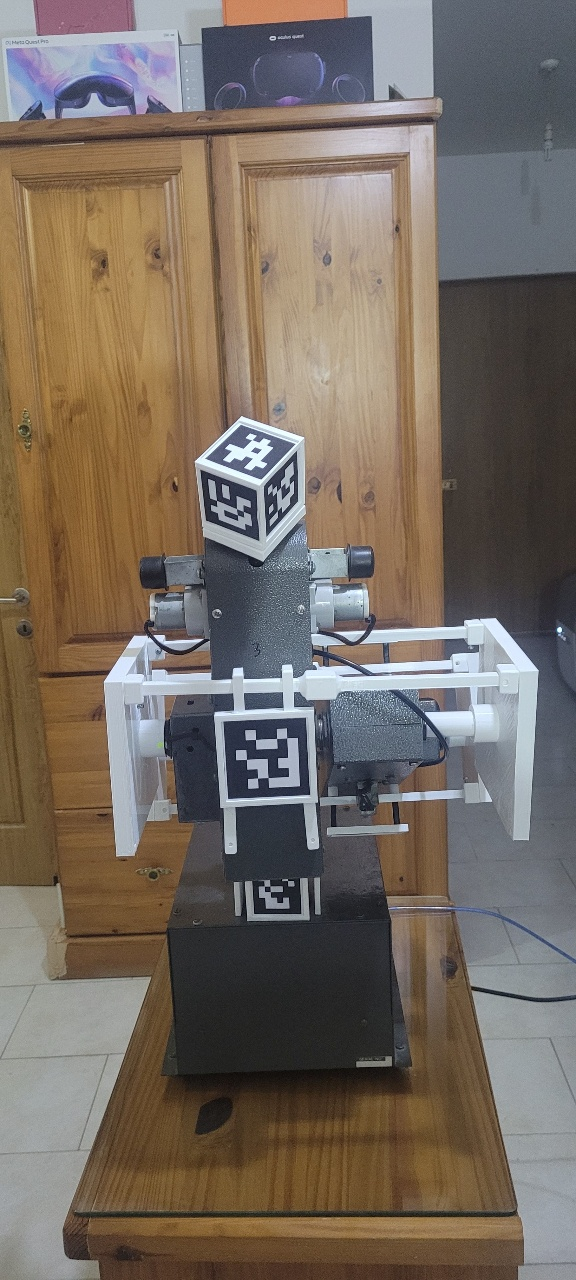Robot: (101, 415, 541, 923)
